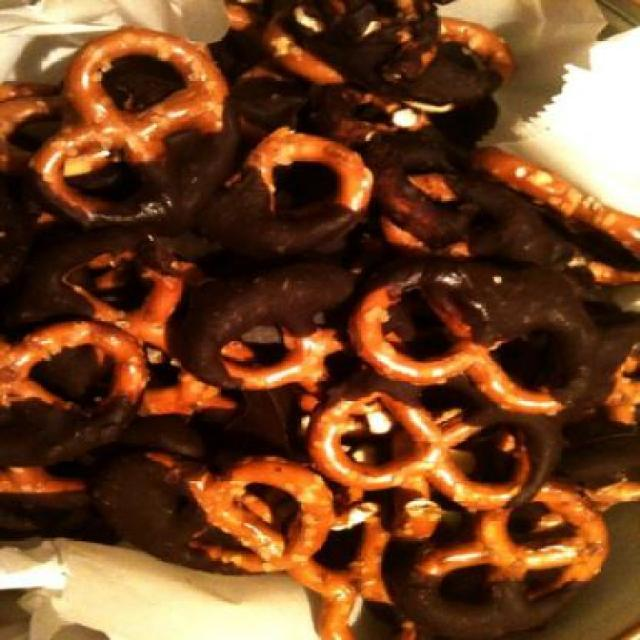Salatini packaged: (1, 1, 639, 639), (1, 2, 639, 640), (14, 17, 234, 220)
